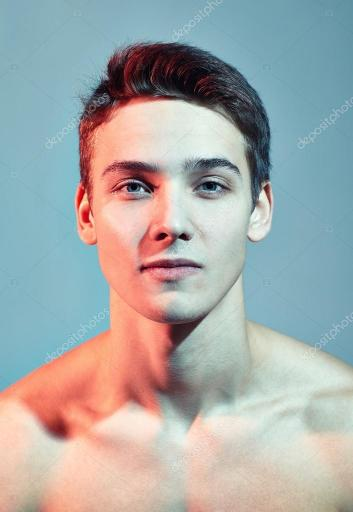left_eye: (194, 179, 233, 201)
left_lip_corner: (197, 263, 209, 279)
right_eye: (111, 182, 155, 202)
right_lip_corner: (137, 263, 150, 279)
